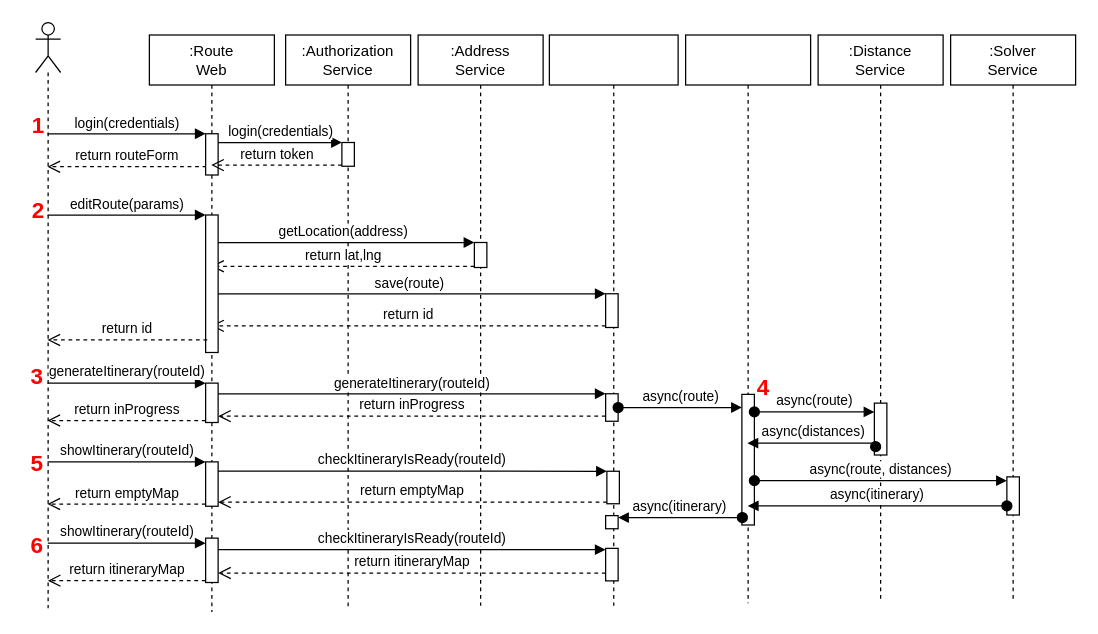
This 1098x634 diagram has some shape labels left out. Here are the shapes that lost their labels. From the top down, the box of each, then its label:
(34, 21, 61, 608): Planner User
(548, 34, 678, 606): :Route Service
(684, 34, 811, 603): :Orchestrator Service
